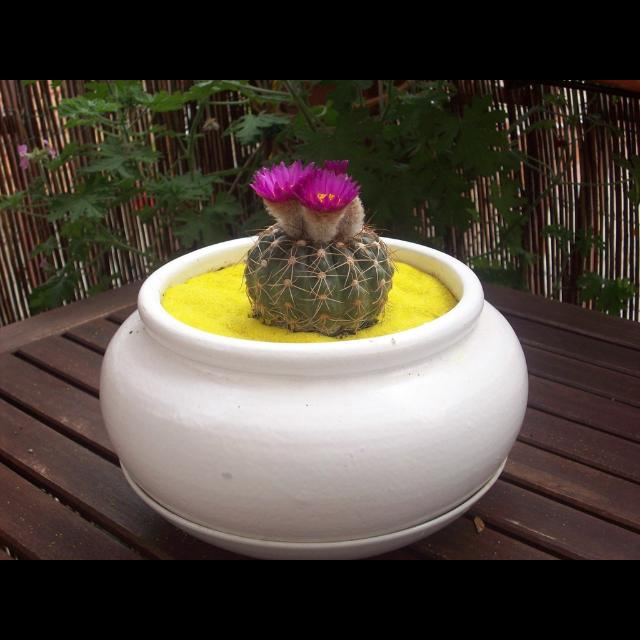Flower: (287, 170, 357, 240), (314, 160, 368, 242)
